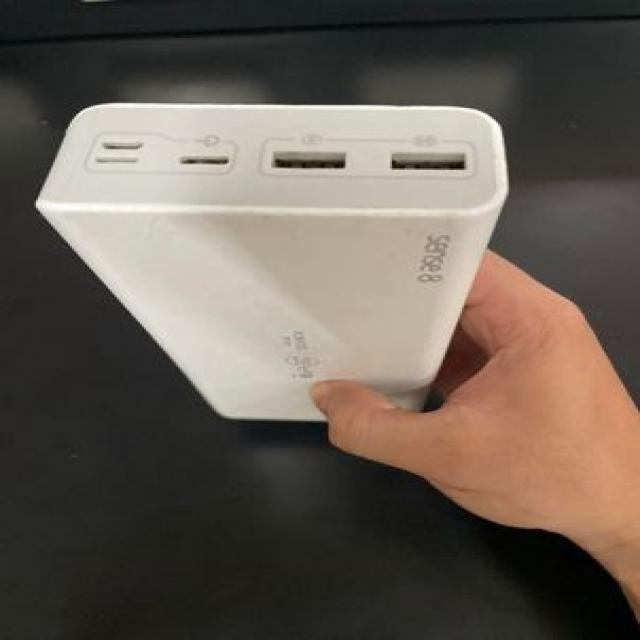power_bank: (21, 78, 522, 432)
